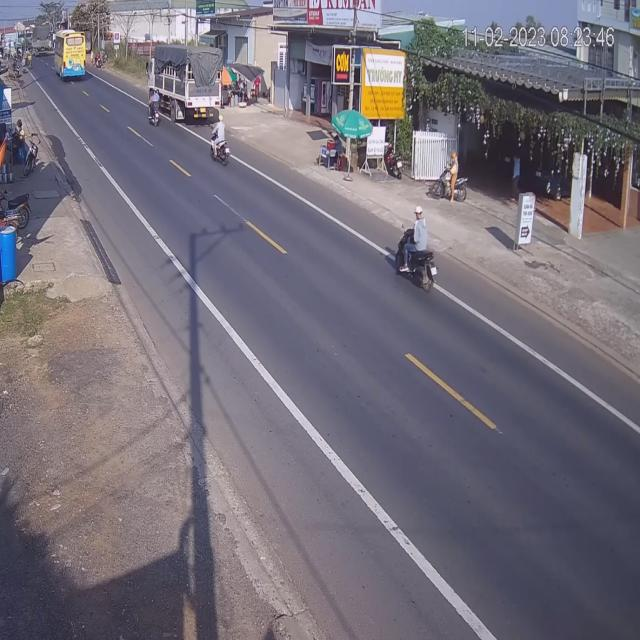bus: (58, 32, 88, 84)
motorbike: (393, 209, 440, 296), (439, 156, 466, 206), (210, 118, 231, 165), (146, 92, 166, 125)
truck: (150, 44, 225, 112)
